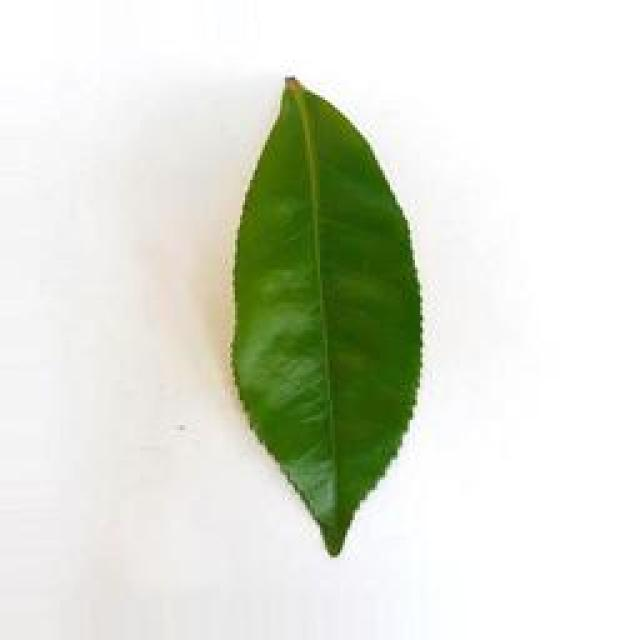Healthy: (233, 81, 434, 559)
